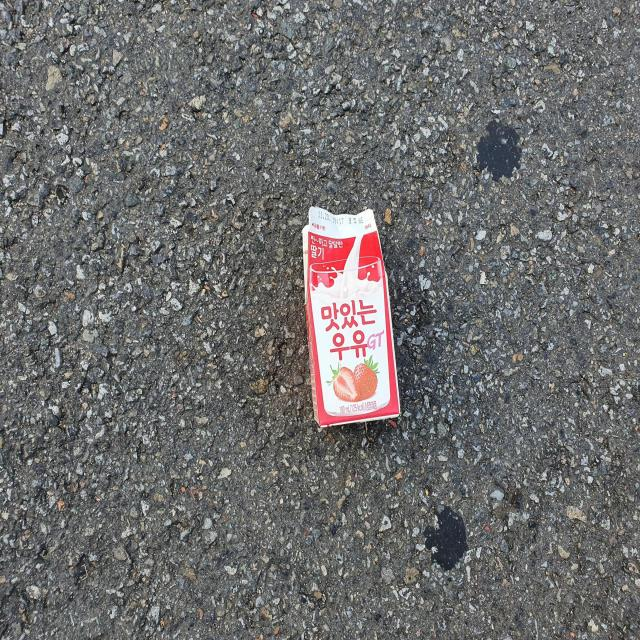paperpack: (303, 206, 400, 427)
